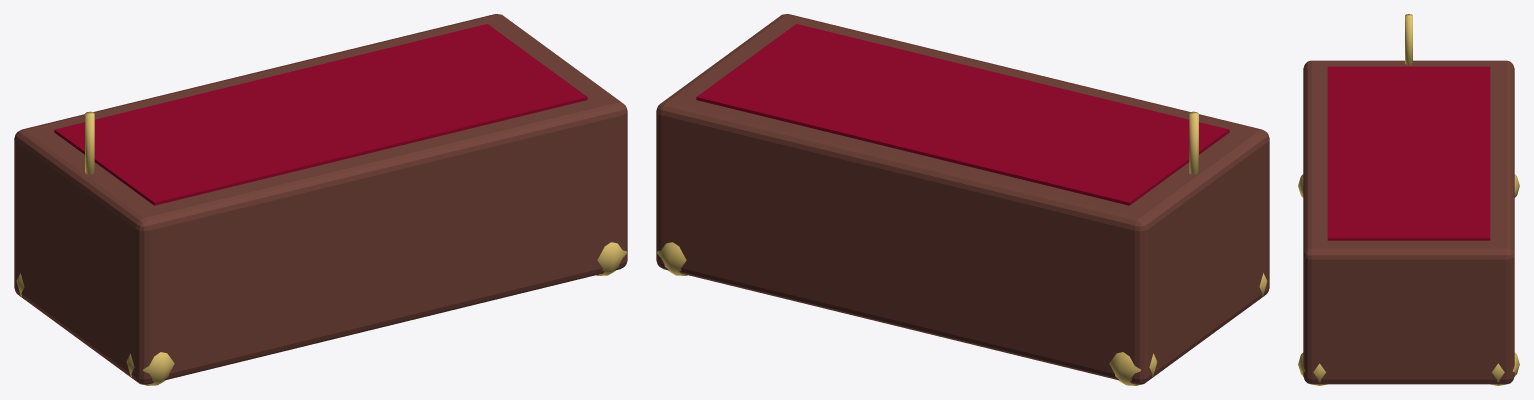
File: bath_fixture_blood_bath.glb
3 views of the same model, side by side, from view 1: azimuth 30°, elevation 25°; view 2: azimuth 150°, elevation 25°; view 3: azimuth 270°, elevation 25° (orthographic). The views are drawn at different scales.
Parts seen in each view (by area): view 1: GD_bath_fixture_blood_bath__m0, GD_bath_fixture_blood_bath__m1, GD_bath_fixture_blood_bath__m2; view 2: GD_bath_fixture_blood_bath__m0, GD_bath_fixture_blood_bath__m1, GD_bath_fixture_blood_bath__m2; view 3: GD_bath_fixture_blood_bath__m0, GD_bath_fixture_blood_bath__m1, GD_bath_fixture_blood_bath__m2.
Part boxes in pixels (left/top/right/bottom): GD_bath_fixture_blood_bath__m0: left=14, top=14, right=627, bottom=384; GD_bath_fixture_blood_bath__m1: left=54, top=24, right=587, bottom=205; GD_bath_fixture_blood_bath__m2: left=16, top=111, right=626, bottom=385; GD_bath_fixture_blood_bath__m0: left=656, top=14, right=1269, bottom=384; GD_bath_fixture_blood_bath__m1: left=696, top=24, right=1229, bottom=205; GD_bath_fixture_blood_bath__m2: left=657, top=111, right=1267, bottom=385; GD_bath_fixture_blood_bath__m0: left=1303, top=60, right=1514, bottom=384; GD_bath_fixture_blood_bath__m1: left=1327, top=66, right=1490, bottom=240; GD_bath_fixture_blood_bath__m2: left=1298, top=14, right=1519, bottom=385.
Bounding box in the file's own units: 1.72 × 0.765 × 0.82.
